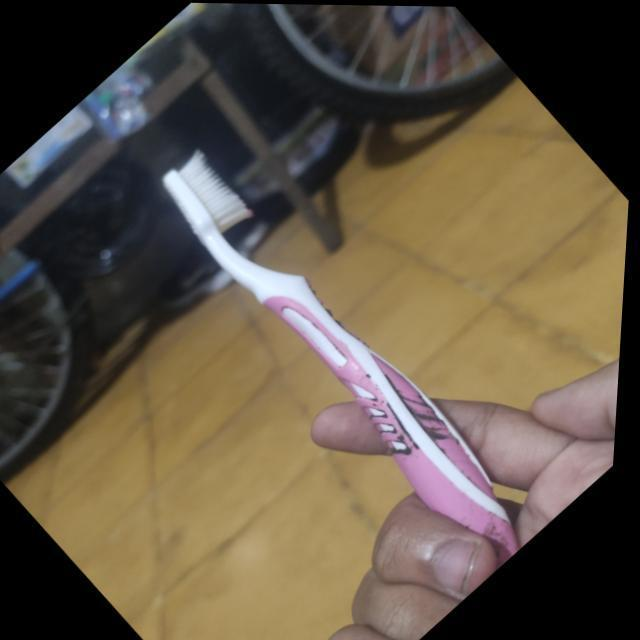toothbrush: (112, 96, 604, 580)
